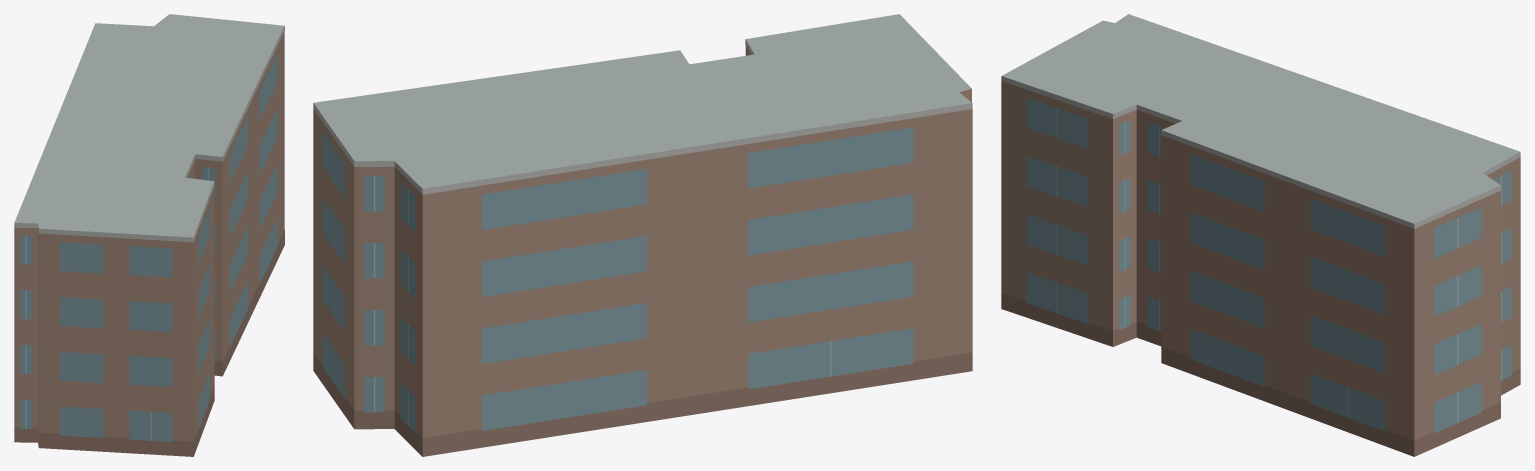
The model's file is survey-upis-32622539.glb.
The picture shows the model from 3 angles, left to right: view 1: azimuth 30°, elevation 25°; view 2: azimuth 150°, elevation 25°; view 3: azimuth 270°, elevation 25°; orthographic projection. The views are drawn at different scales.
Visible parts, largest first — view 1: survey-upis-32622539.tmp; view 2: survey-upis-32622539.tmp; view 3: survey-upis-32622539.tmp.
Boxes of the visible parts, x1,y1,x2,y2 form: survey-upis-32622539.tmp: [14, 14, 284, 456]; survey-upis-32622539.tmp: [313, 14, 972, 456]; survey-upis-32622539.tmp: [1001, 14, 1520, 456].
Size of the model in its own units: 21.66 by 11.2 by 22.62.
